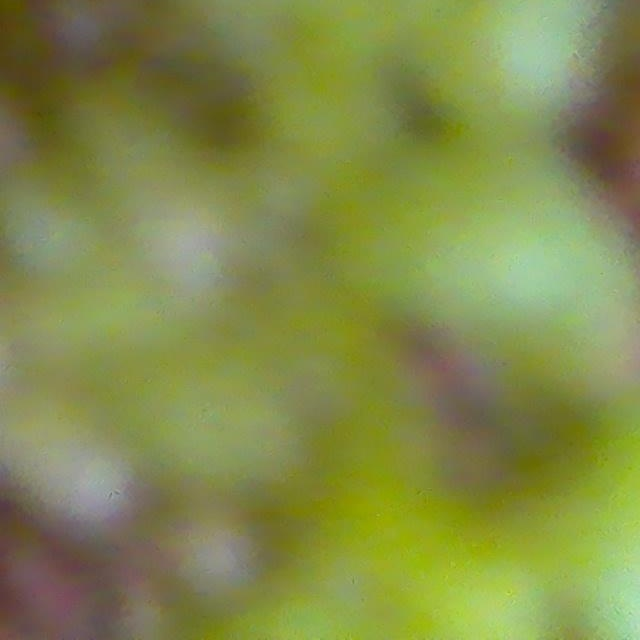SeaGrape: (381, 135, 593, 337), (442, 0, 593, 153), (0, 151, 110, 288), (176, 509, 264, 600)
